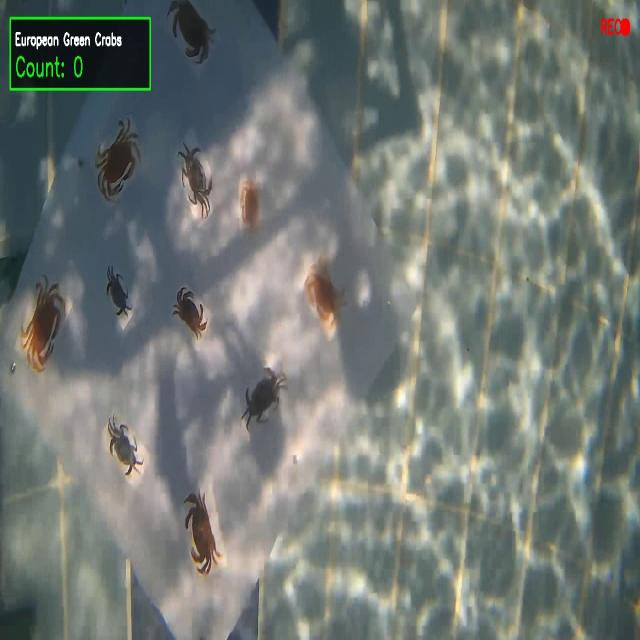European_Green_Crab: (233, 357, 293, 449), (173, 133, 222, 231), (101, 405, 149, 487), (100, 254, 144, 334)
